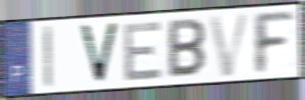B: (166, 17, 207, 80)
E: (123, 19, 165, 84)
F: (250, 11, 297, 77)
I: (42, 24, 54, 90)
V: (207, 10, 254, 79), (76, 21, 121, 86)
